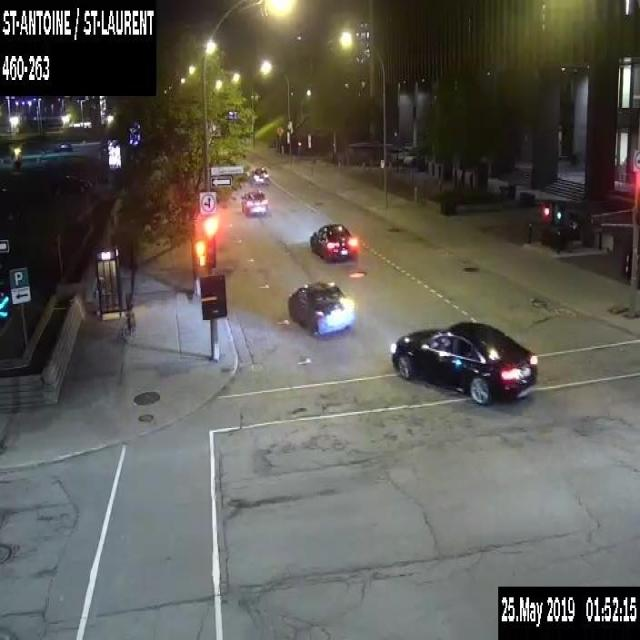construction: (276, 125, 284, 136)
vehicle: (391, 318, 538, 406), (287, 280, 353, 335), (308, 222, 356, 259), (51, 173, 91, 196), (240, 189, 267, 216), (250, 167, 269, 184)
